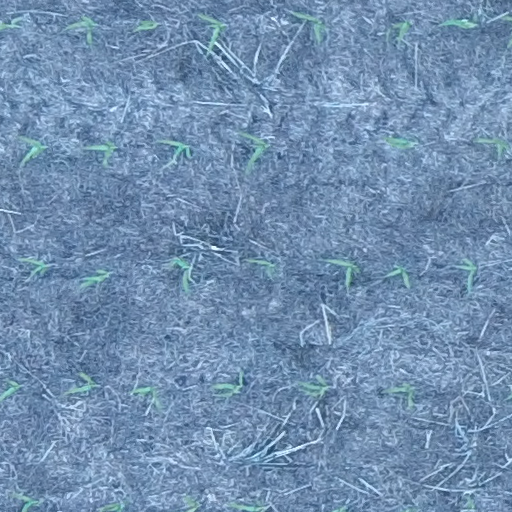planta: (288, 9, 326, 43), (240, 131, 270, 173), (198, 13, 227, 53), (327, 258, 361, 288), (66, 14, 97, 46), (59, 371, 97, 397), (19, 135, 46, 171), (382, 383, 416, 410), (212, 372, 245, 398), (170, 257, 193, 293), (455, 256, 478, 291), (131, 385, 163, 410), (159, 139, 192, 162), (475, 136, 511, 157), (87, 141, 117, 166), (298, 375, 329, 398), (386, 18, 412, 44), (384, 265, 413, 287), (20, 257, 49, 278), (81, 268, 110, 288), (441, 15, 479, 30), (249, 258, 278, 276), (384, 135, 416, 149), (132, 18, 158, 33)
